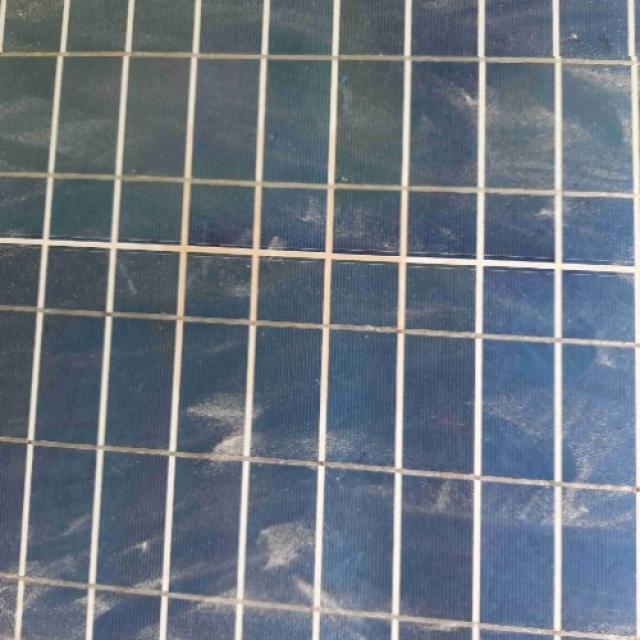Dirty: (0, 56, 640, 640)
